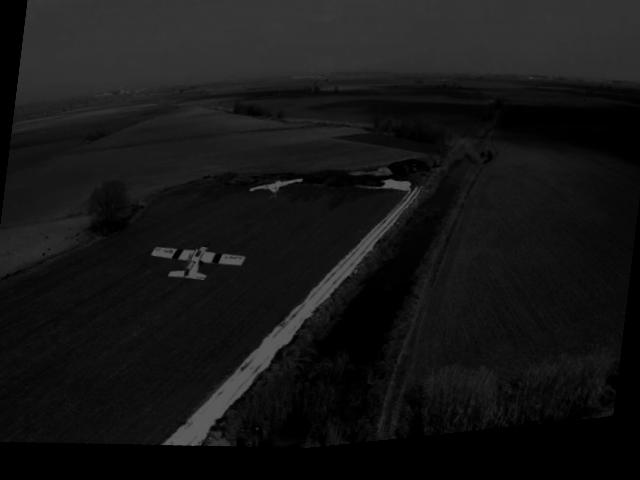hedef: (142, 218, 253, 302), (244, 165, 306, 221)
